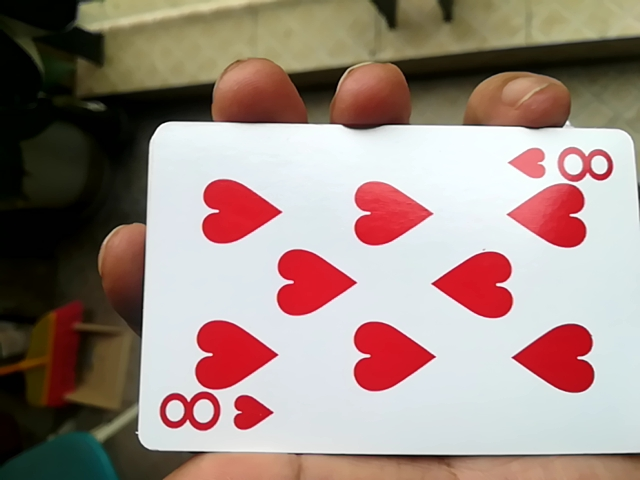hx 8: (128, 119, 624, 463)
